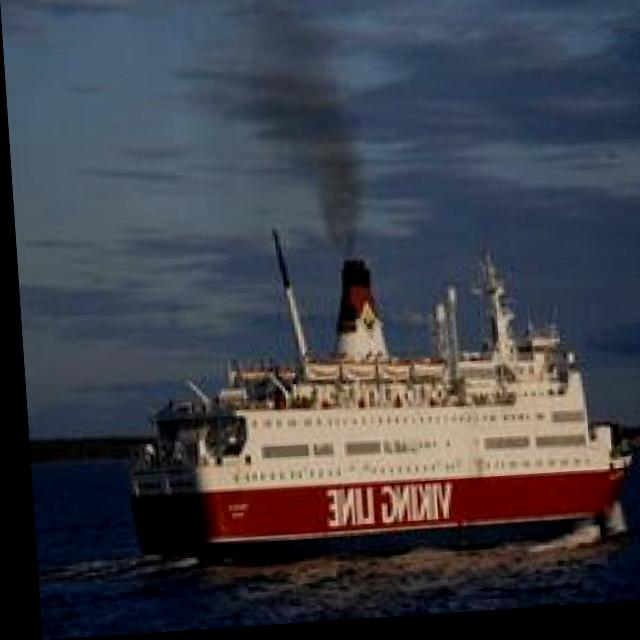ship2: (122, 231, 628, 573)
